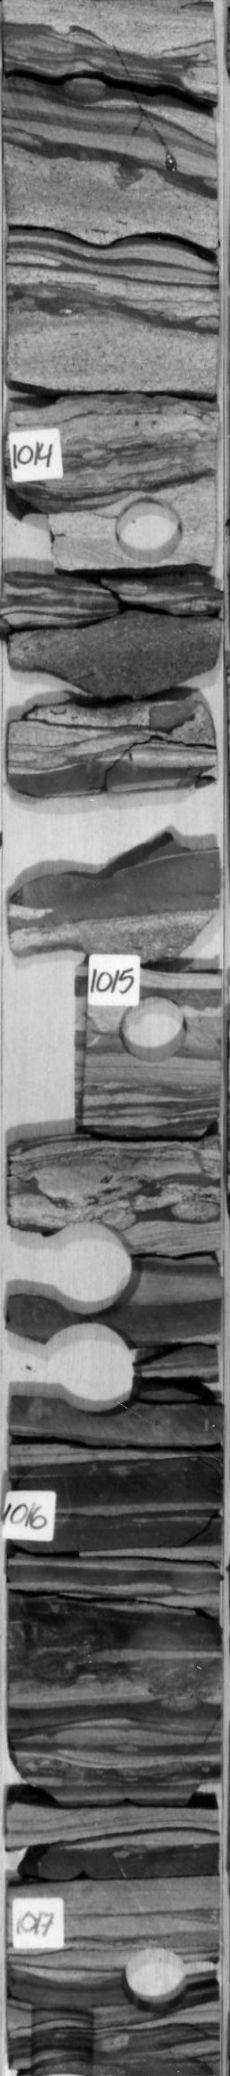hplug: (112, 990, 192, 1068), (118, 1941, 194, 2011), (108, 493, 184, 561)
scal: (45, 1211, 145, 1317), (48, 1323, 137, 1417)
vplug: (5, 943, 93, 1147), (24, 1994, 102, 2076), (3, 489, 67, 577)
